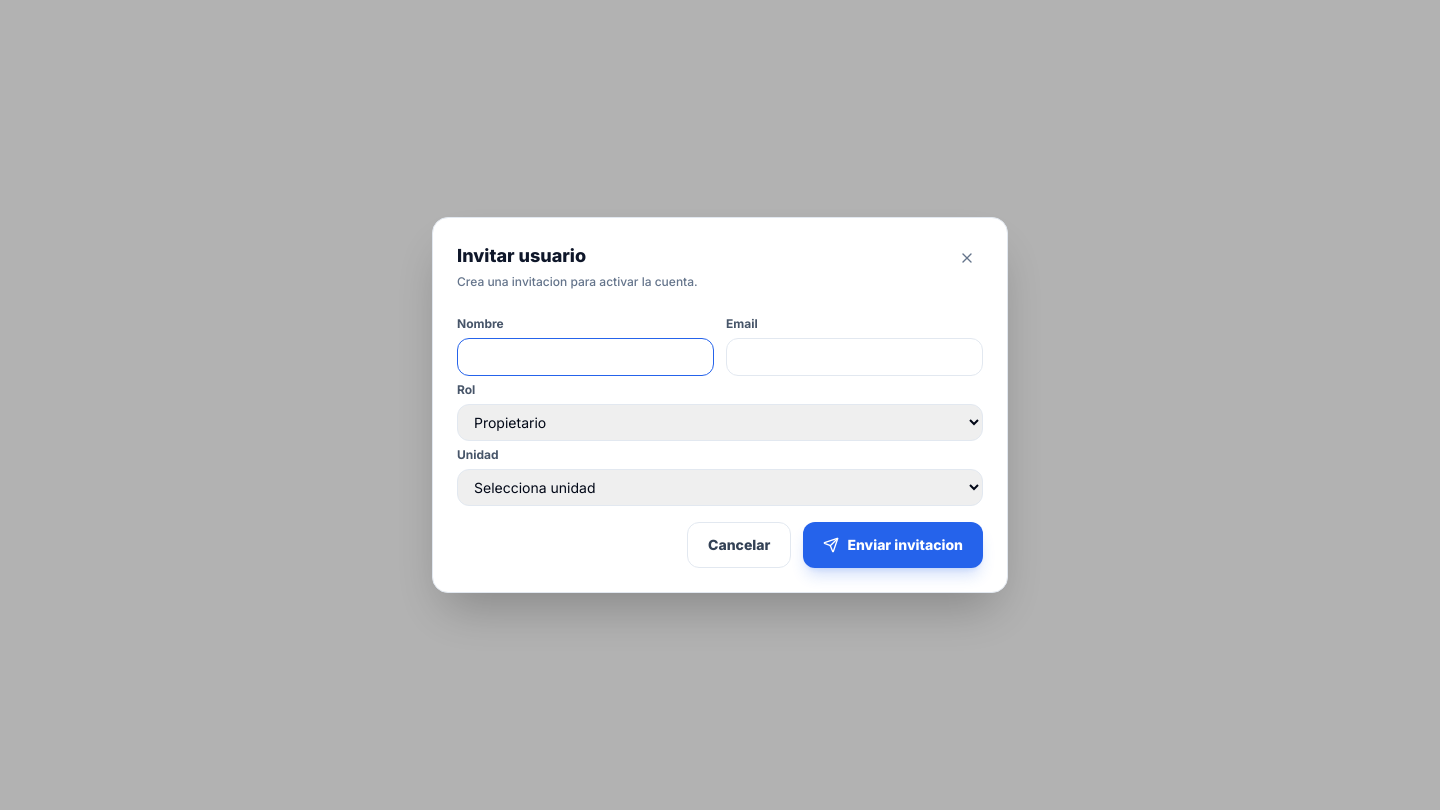
Test: InvitationCreationDialog › requires a unit for OWNER and OCCUPANT invitations
The image size is (1440, 810).
Type "Owner Invitada" into the field labelled "Nombre" at (586, 357), box x1=457 y1=338 x2=714 y2=376
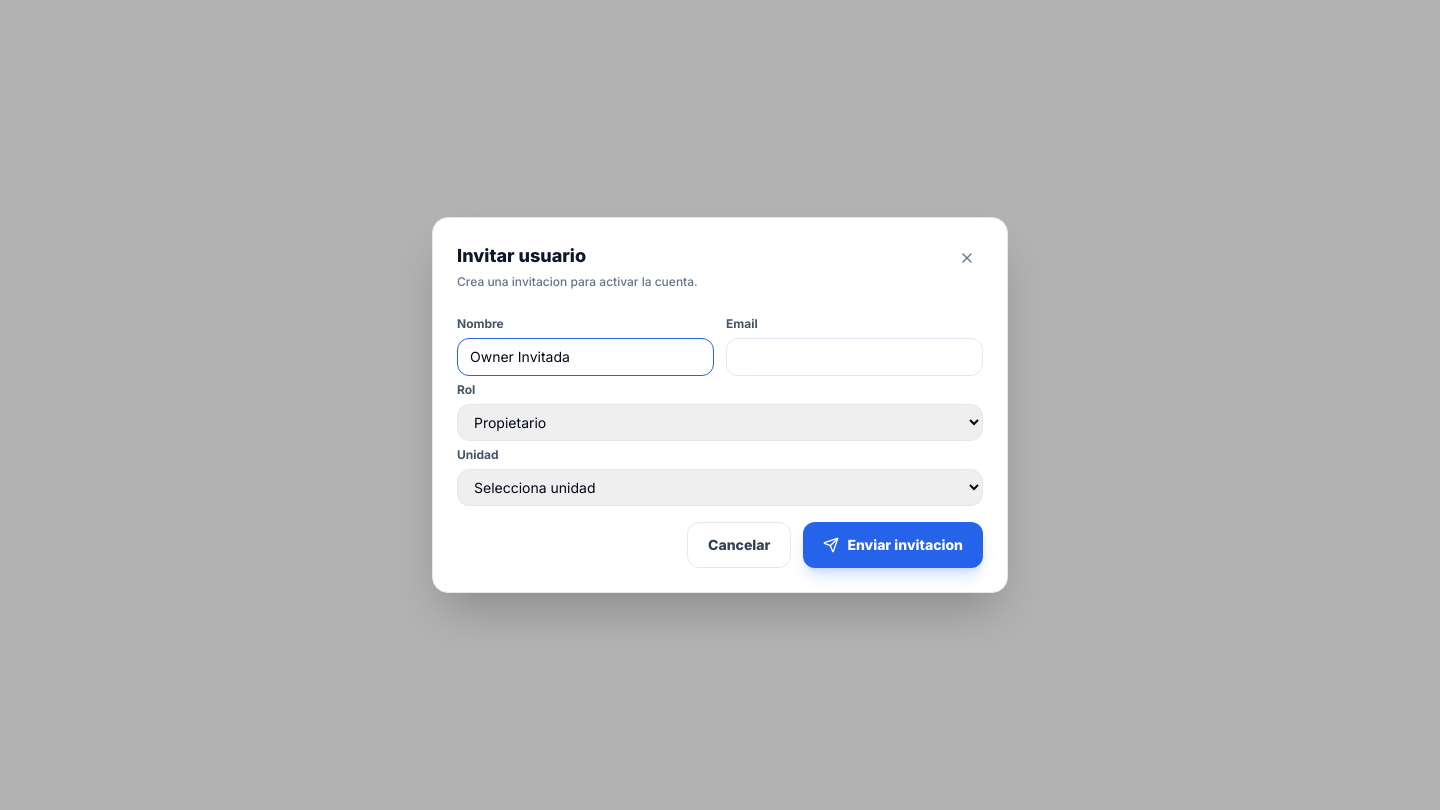
Type "owner@example.com" into the field labelled "Email" at (854, 357), box x1=726 y1=338 x2=983 y2=376
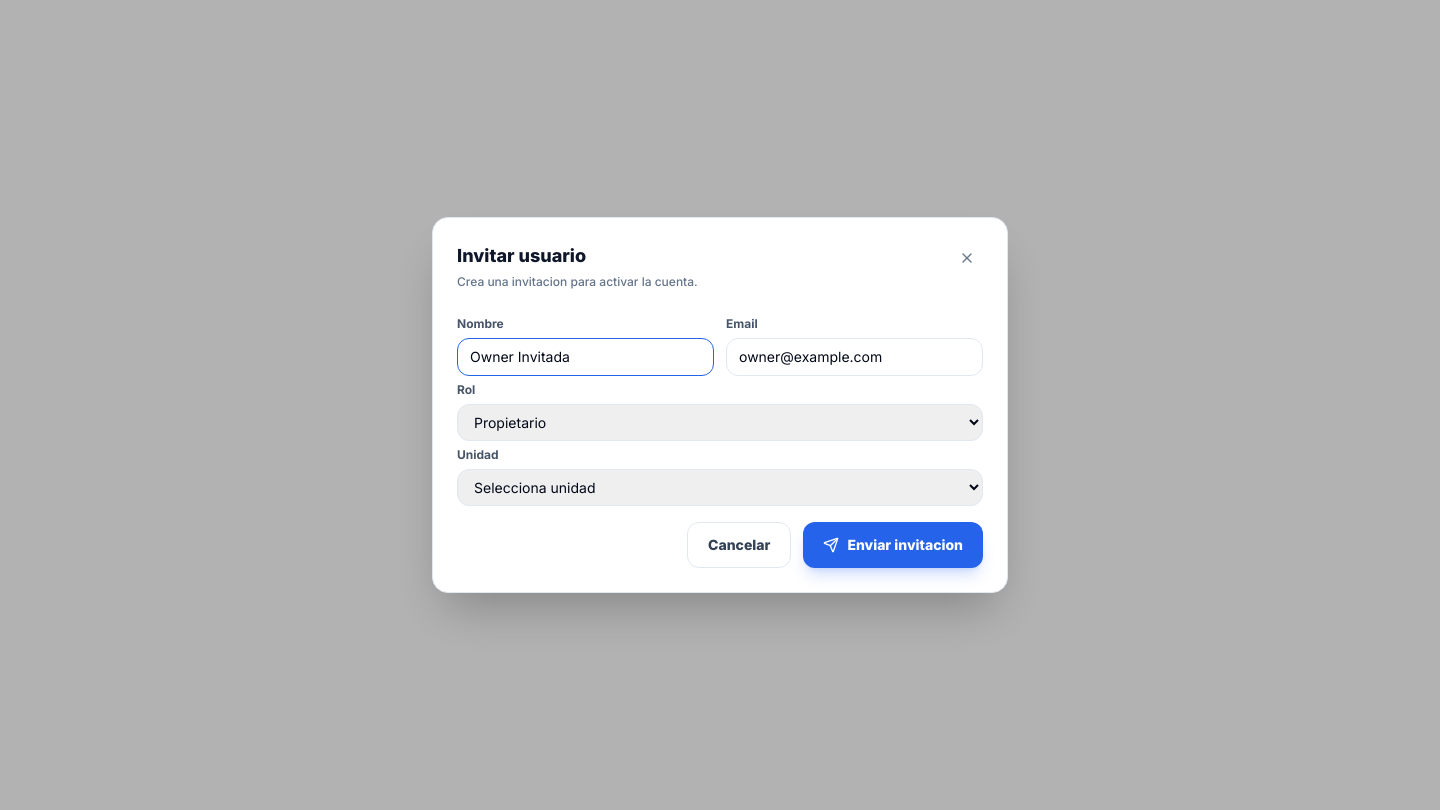
Click the button "Enviar invitacion" at (893, 545), box x1=803 y1=522 x2=983 y2=568
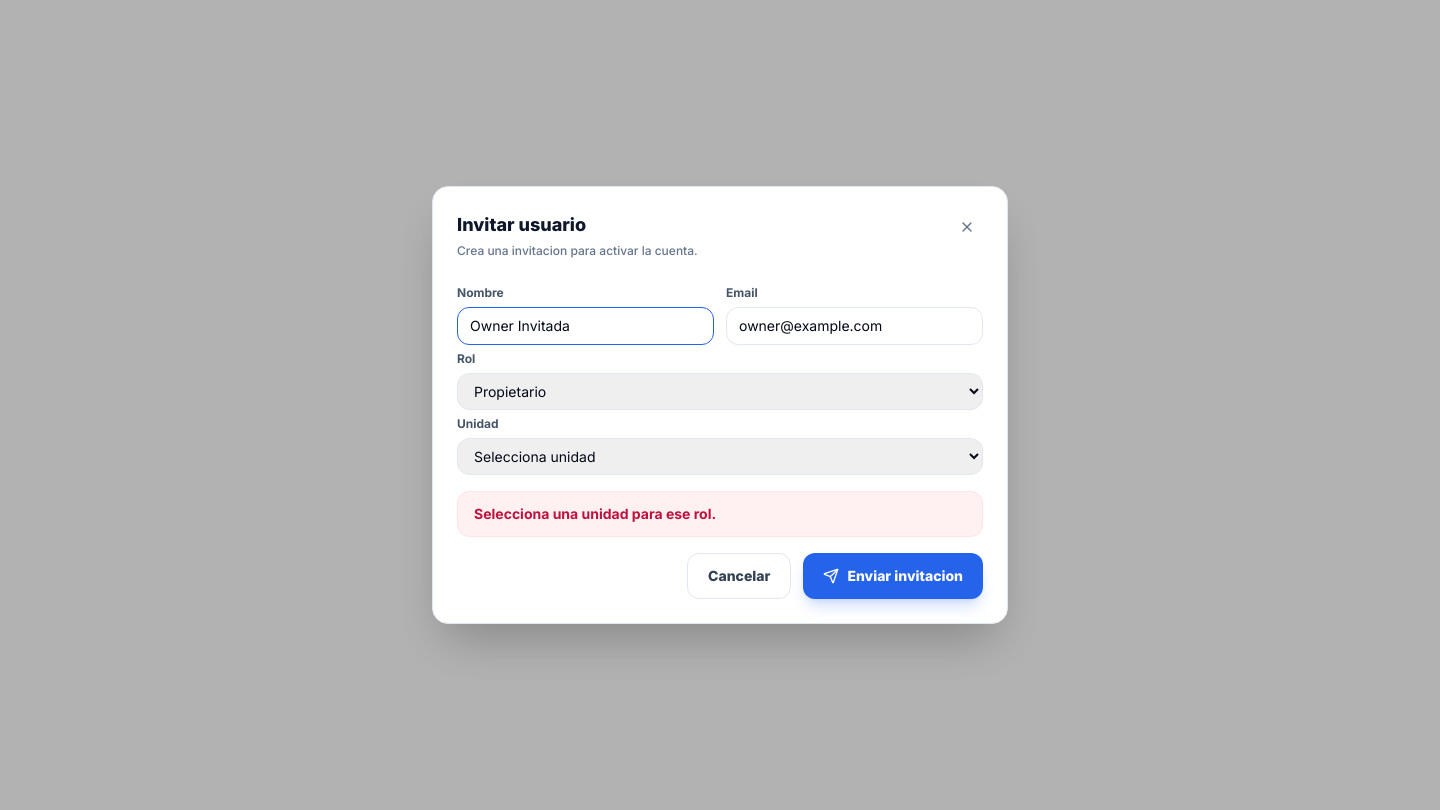
Check: the text "Selecciona una unidad para ese rol." is shown, box x1=457 y1=491 x2=983 y2=537
